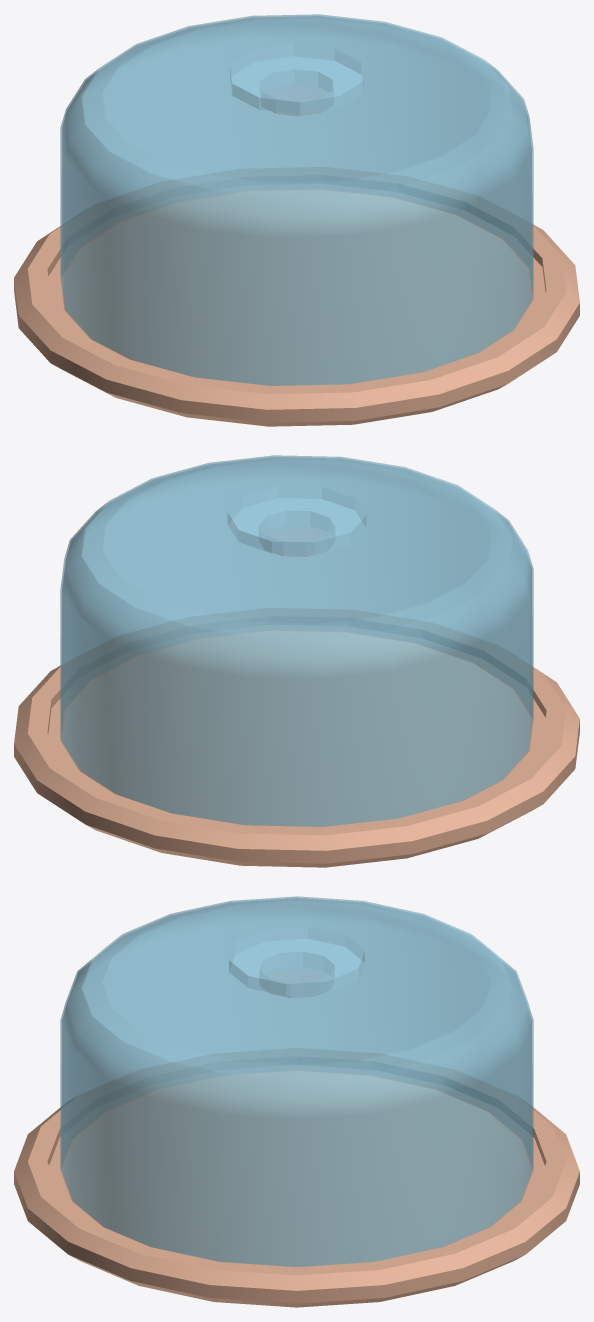
File: PW_display03.fbx
The picture shows the model from 3 angles, top to bottom: view 1: azimuth 30°, elevation 25°; view 2: azimuth 150°, elevation 25°; view 3: azimuth 270°, elevation 25°; orthographic projection.
Visible parts, largest first — view 1: glass, plate; view 2: glass, plate; view 3: glass, plate.
Boxes of the visible parts, x1=… form: glass: x1=60, y1=14, x2=533, y2=385; plate: x1=14, y1=167, x2=579, y2=426; glass: x1=60, y1=455, x2=533, y2=826; plate: x1=14, y1=608, x2=579, y2=867; glass: x1=60, y1=896, x2=533, y2=1266; plate: x1=14, y1=1048, x2=579, y2=1307.
Size of the model in its own units: 55.81 by 25.94 by 55.81.
2 materials, 1 textured.
